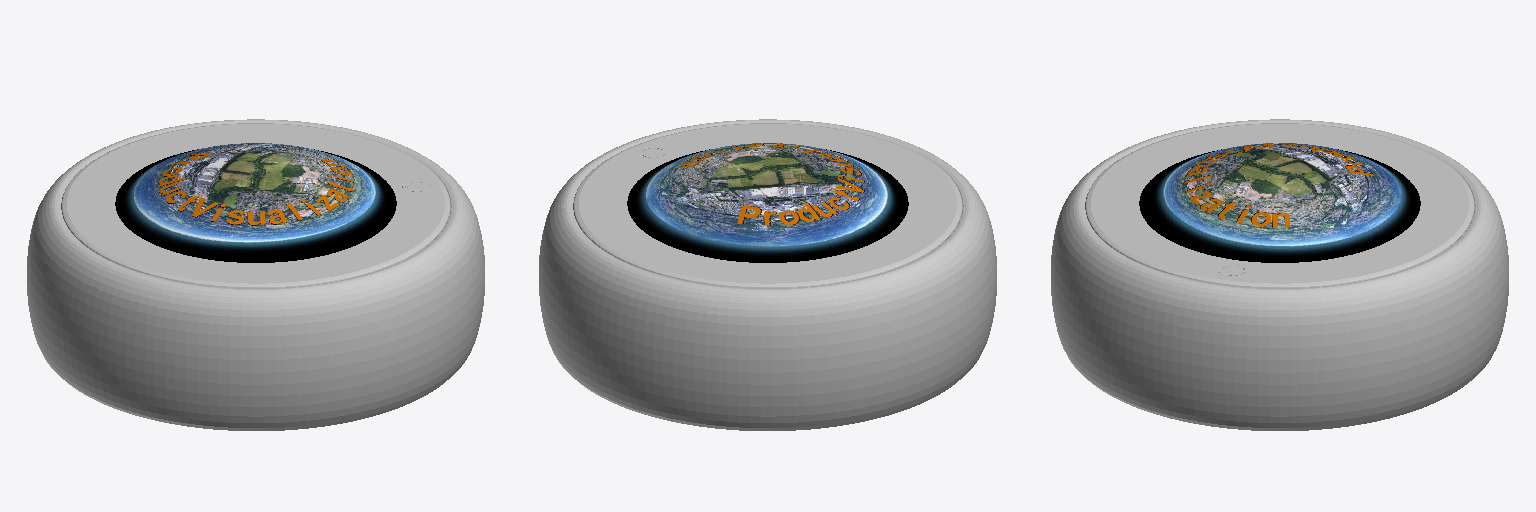
3 views of the same model, side by side, from view 1: azimuth 30°, elevation 25°; view 2: azimuth 150°, elevation 25°; view 3: azimuth 270°, elevation 25° (orthographic).
Parts seen in each view (by area): view 1: Cylinder; view 2: Cylinder; view 3: Cylinder.
Part boxes in pixels (x1,y1,x2,y2): Cylinder: (27,119,484,430); Cylinder: (539,119,996,430); Cylinder: (1051,119,1508,430).
Size of the model in its own units: 0.5464 by 0.2245 by 0.5464.
Materials: 5 (1 with a texture image).